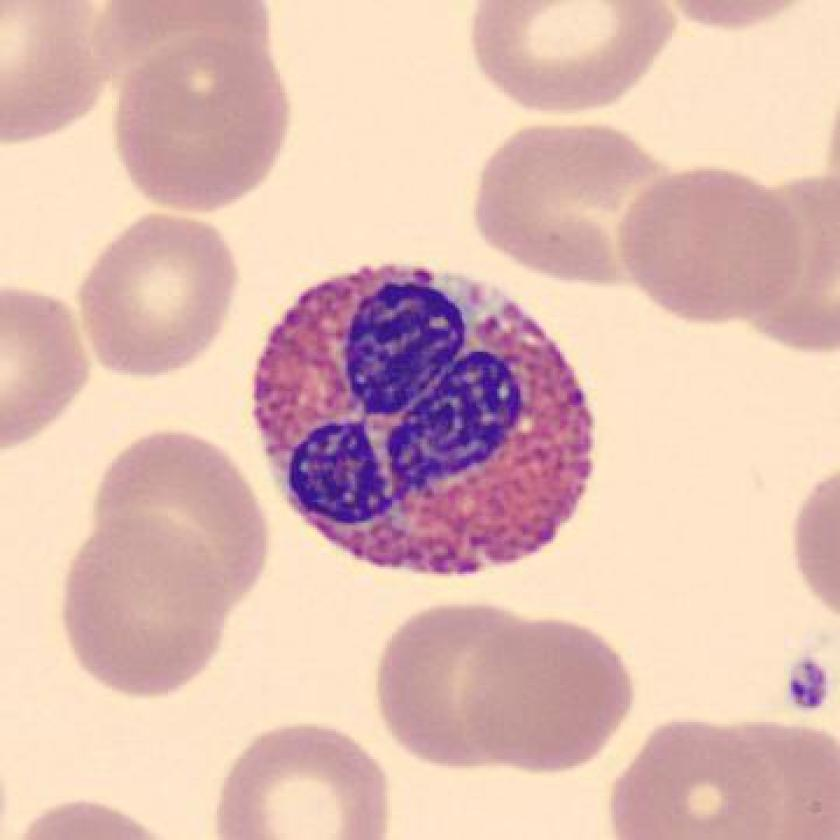eosinophil: (232, 244, 612, 589)
